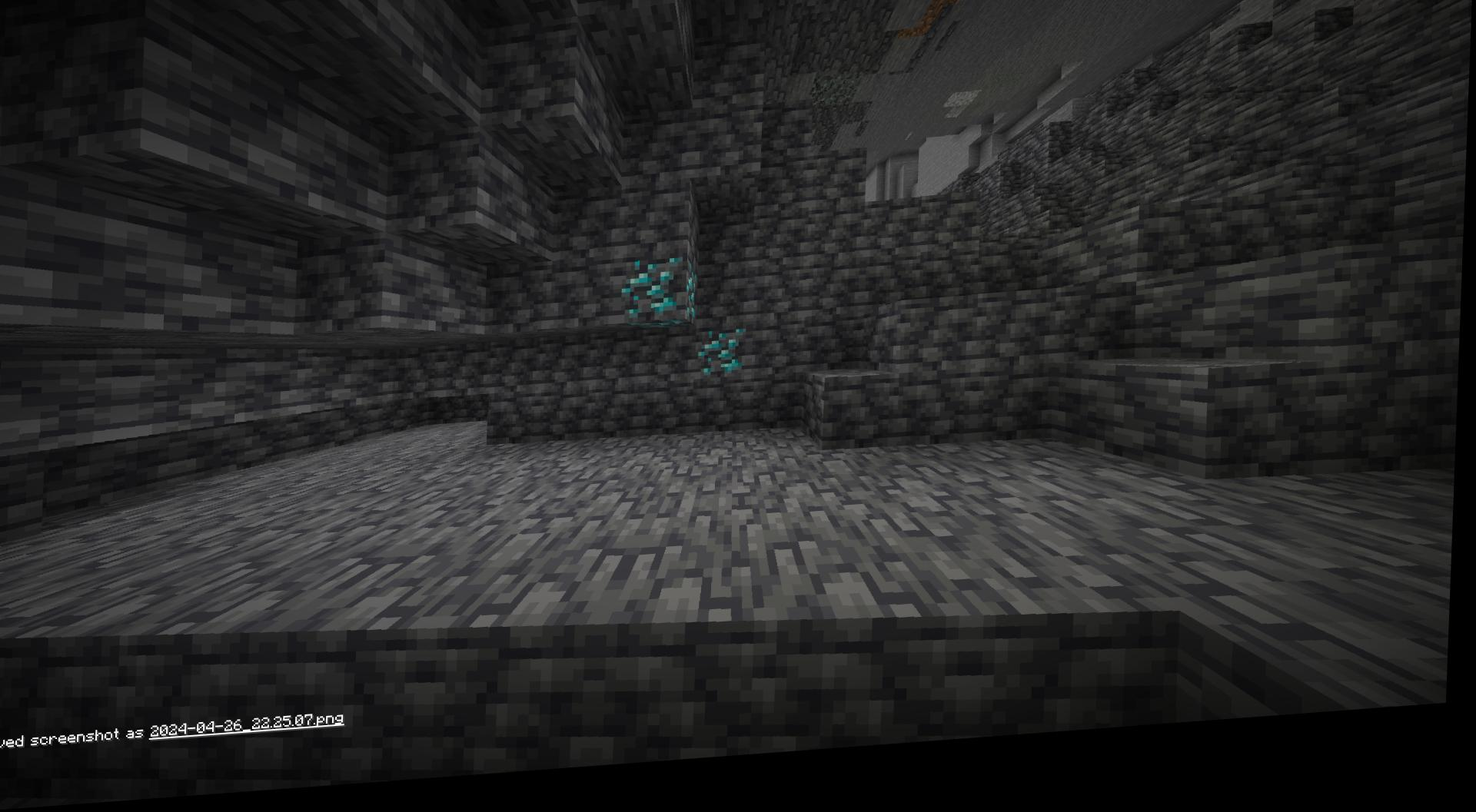diamond ore: (617, 263, 701, 343), (695, 337, 752, 389)
